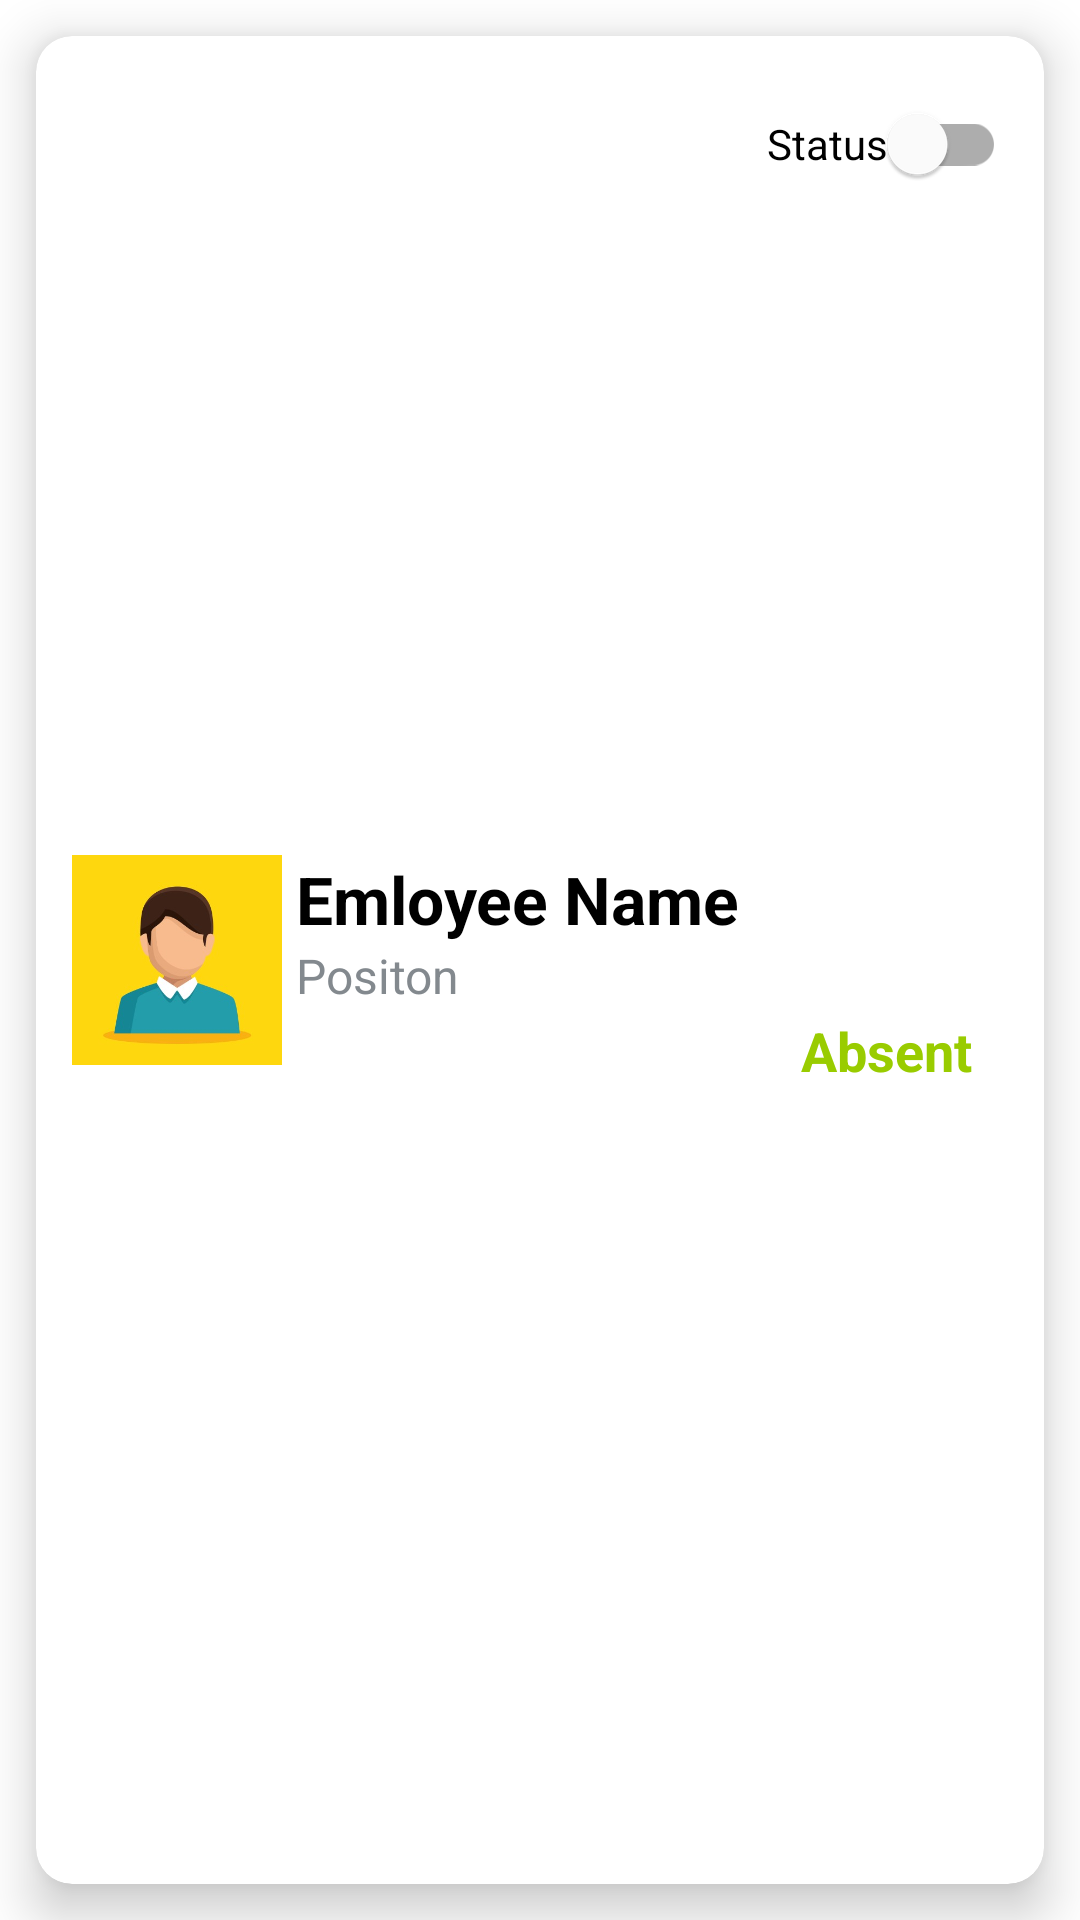

Locate icon controls on the screen. Image size 1080x1920, boxes as detection(x1, y1, x2, y2).
Employee Image: detection(72, 855, 282, 1065)
